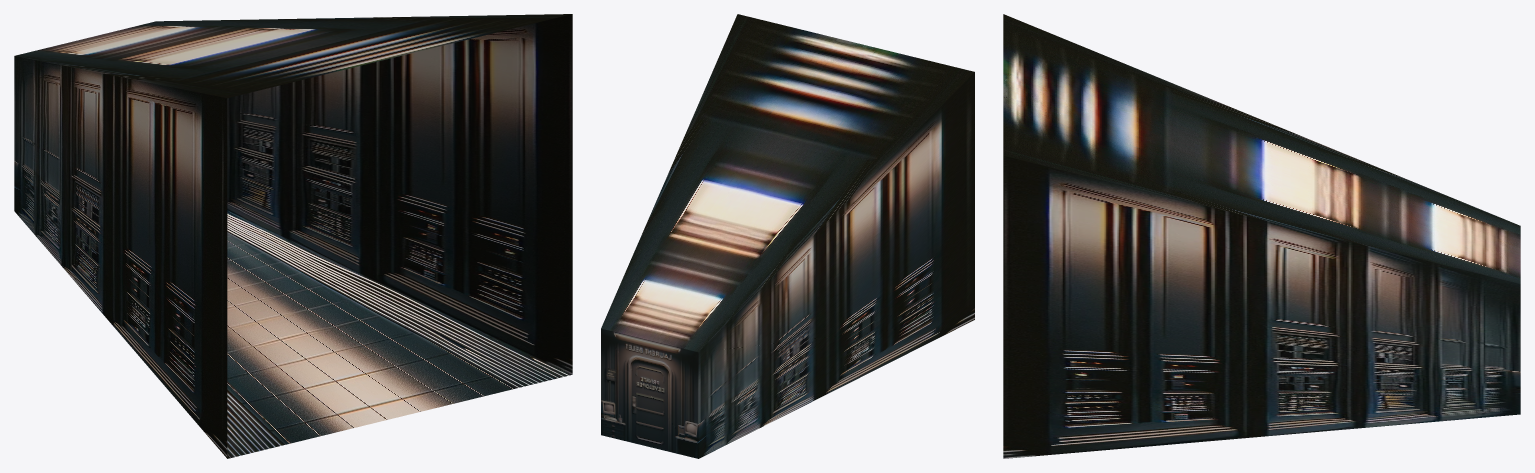
File: privateDev.gltf
The picture shows the model from 3 angles, left to right: view 1: azimuth 30°, elevation 25°; view 2: azimuth 150°, elevation 25°; view 3: azimuth 270°, elevation 25°; orthographic projection. The views are drawn at different scales.
Visible parts, largest first — view 1: mix58a36; view 2: mix58a36; view 3: mix58a36.
Boxes of the visible parts, left/top/right/bottom form: mix58a36: left=14, top=14, right=572, bottom=458; mix58a36: left=601, top=14, right=974, bottom=458; mix58a36: left=1003, top=14, right=1520, bottom=458.
Bounding box in the file's own units: 1 × 1 × 1.55.
1 material, 1 textured.
